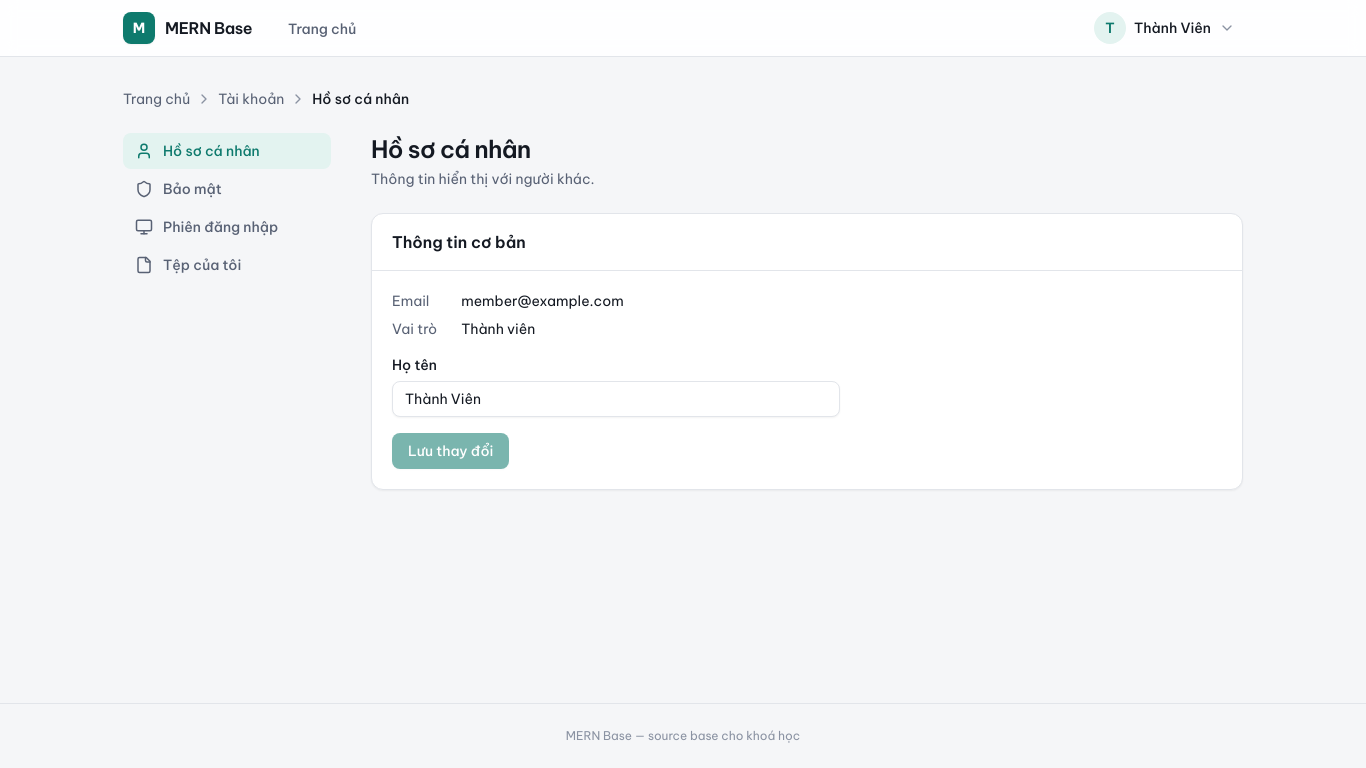
it: [bai-05] Trang hồ sơ › chưa sửa gì → nút lưu bị khoá; tên rỗng → báo lỗi
The image size is (1366, 768).
Expected: the button "Lưu thay đổi" is disabled, [392,433,509,469]
Clear the field labelled "Họ tên" at (616, 399), box [392,381,840,417]
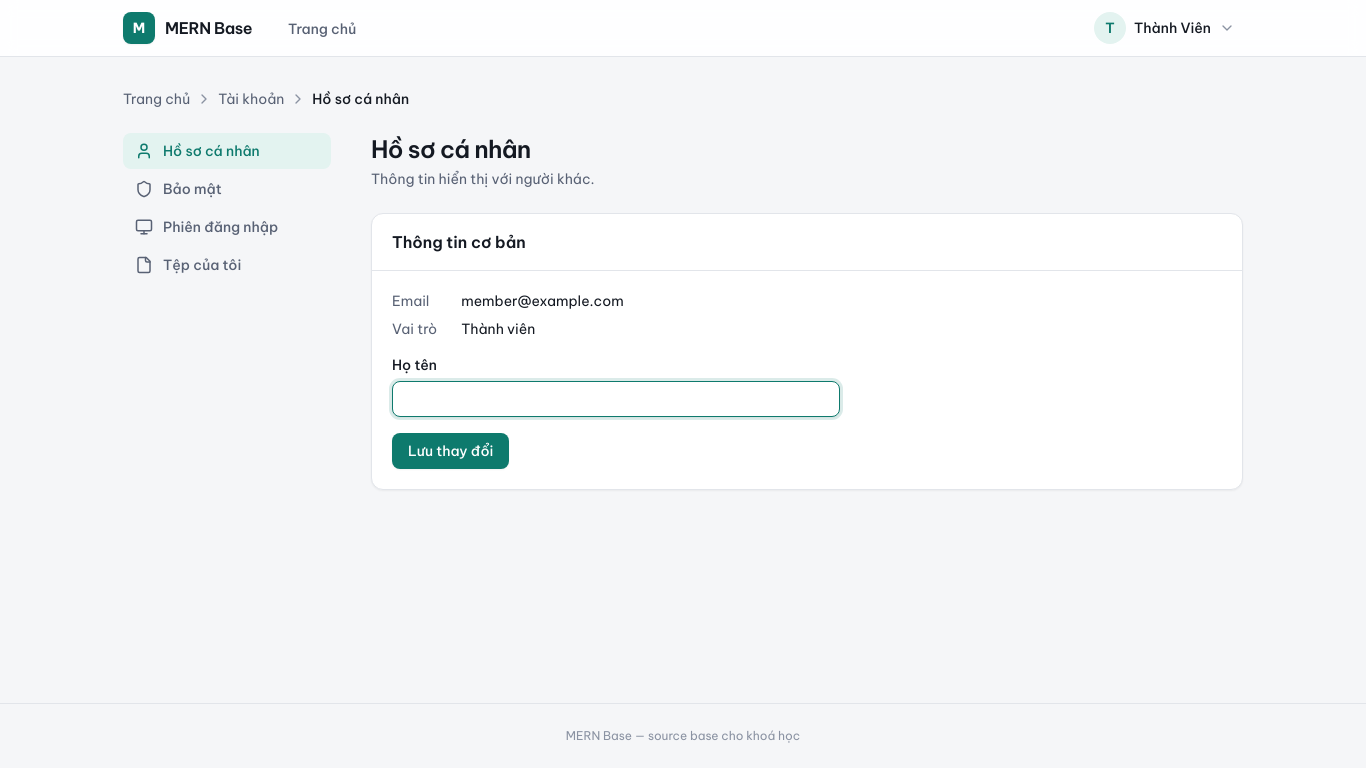
Click the button "Lưu thay đổi" at (451, 451), box [392,433,509,469]
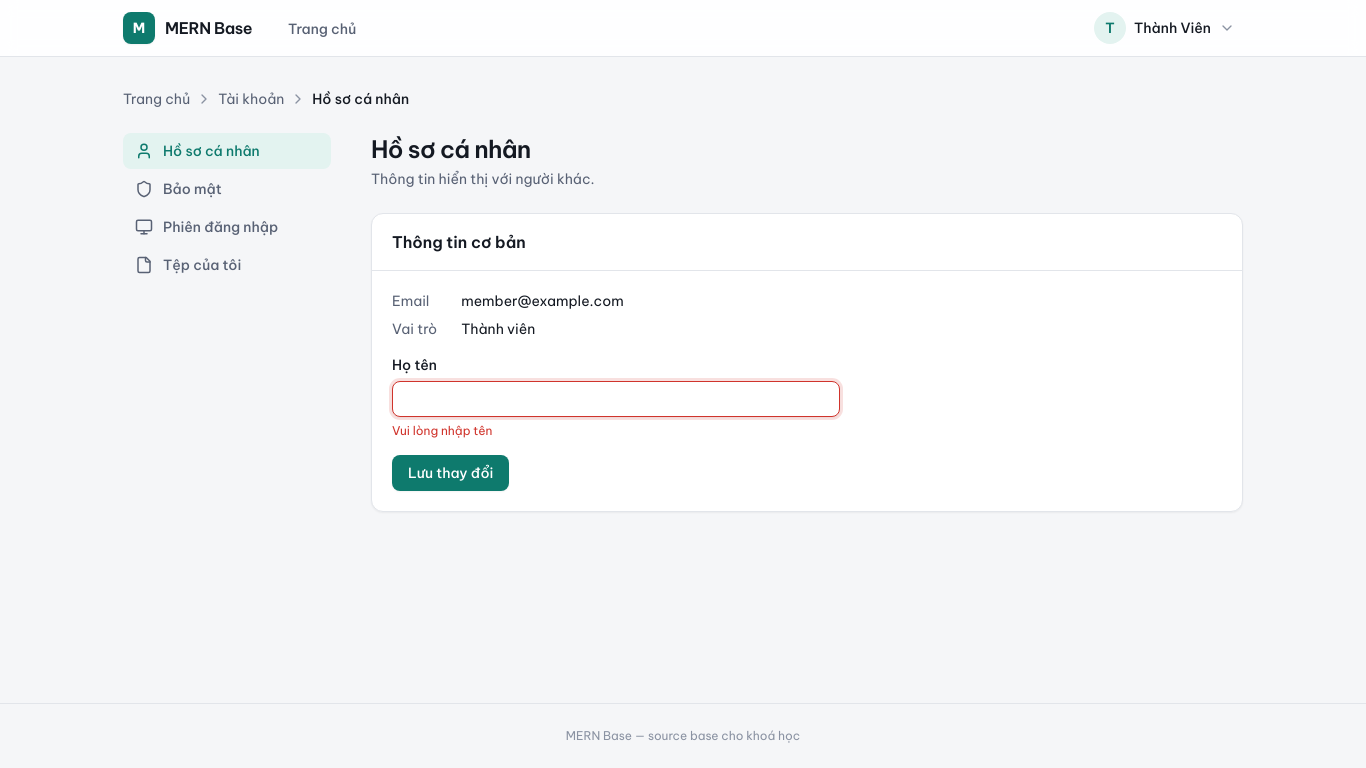
Expected: the text "Vui lòng nhập tên" is shown, [392,423,492,438]
